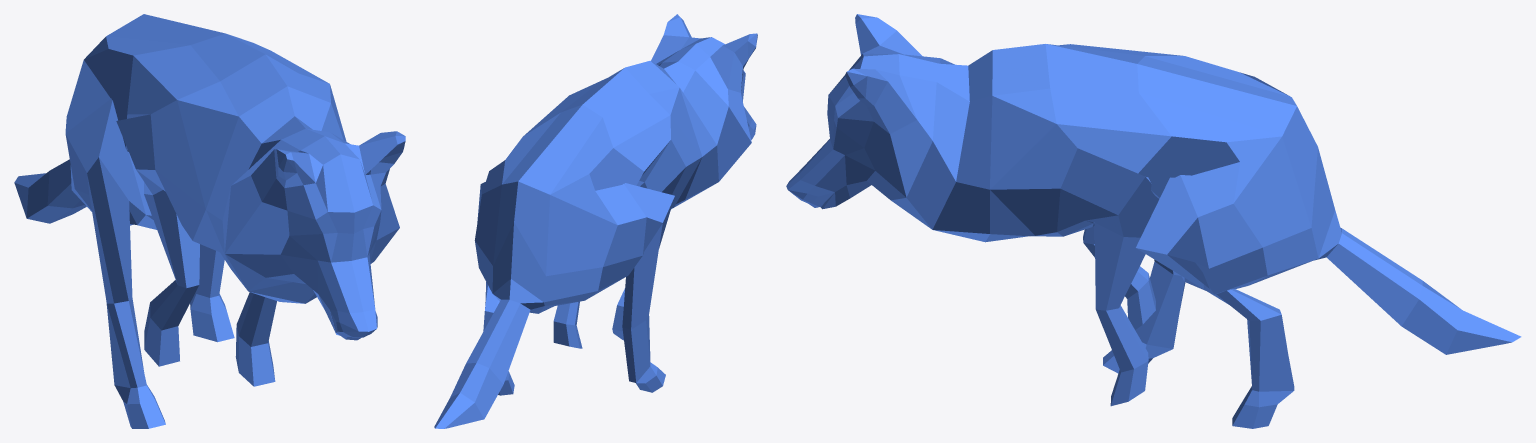
File: wolfRunA_v009013.obj
3 views of the same model, side by side, from view 1: azimuth 30°, elevation 25°; view 2: azimuth 150°, elevation 25°; view 3: azimuth 270°, elevation 25° (orthographic). The views are drawn at different scales.
Visible parts, largest first — view 1: comp_wolf_rig:wolf_body comp_wolf_rig:wolf; view 2: comp_wolf_rig:wolf_body comp_wolf_rig:wolf; view 3: comp_wolf_rig:wolf_body comp_wolf_rig:wolf.
Part boxes in pixels (<box>): comp_wolf_rig:wolf_body comp_wolf_rig:wolf: <box>14,14,405,428</box>; comp_wolf_rig:wolf_body comp_wolf_rig:wolf: <box>434,14,757,428</box>; comp_wolf_rig:wolf_body comp_wolf_rig:wolf: <box>786,14,1521,428</box>.
Bounding box in the file's own units: 41.92 × 65.21 × 119.
